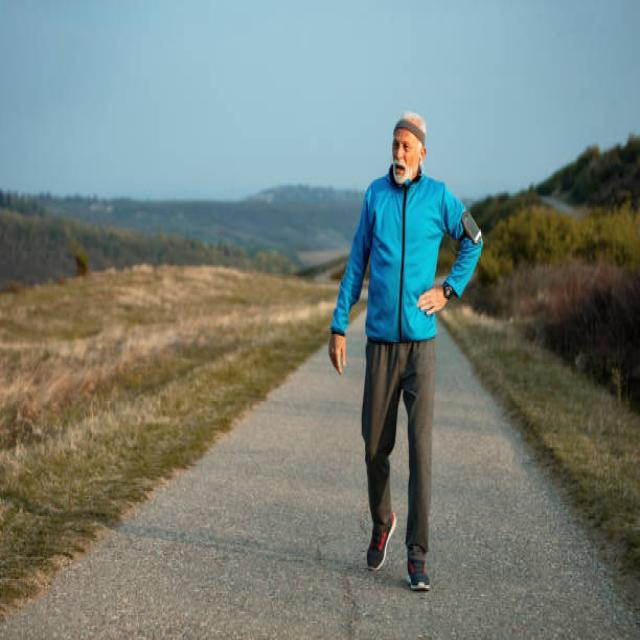Person: (329, 115, 484, 590)
